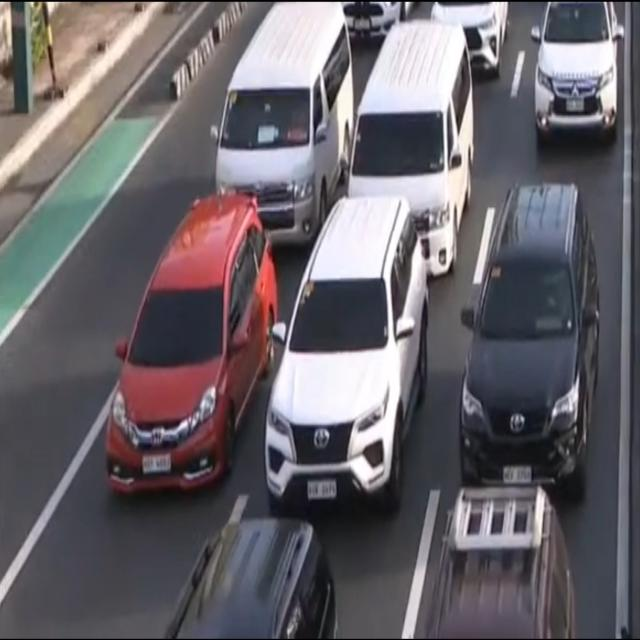SUV: (271, 196, 427, 507), (459, 180, 604, 507), (416, 484, 578, 640), (165, 521, 340, 640), (533, 0, 624, 139), (426, 0, 512, 76)
Sedan: (94, 191, 276, 489)
Van: (342, 22, 476, 286), (213, 3, 354, 253)
